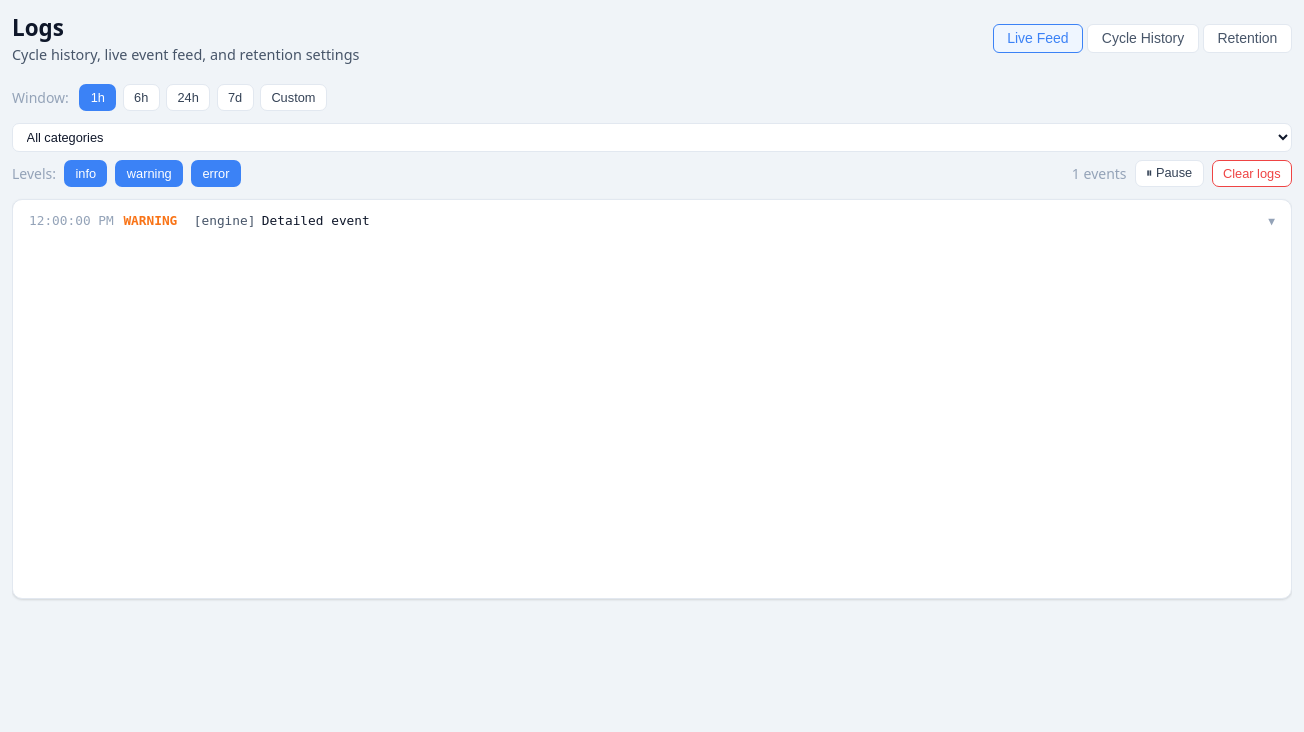
Test: Logs Page › expands an event entry with details
Click the text "Detailed event".
click(316, 220)  # box left=262, top=213, right=370, bottom=228
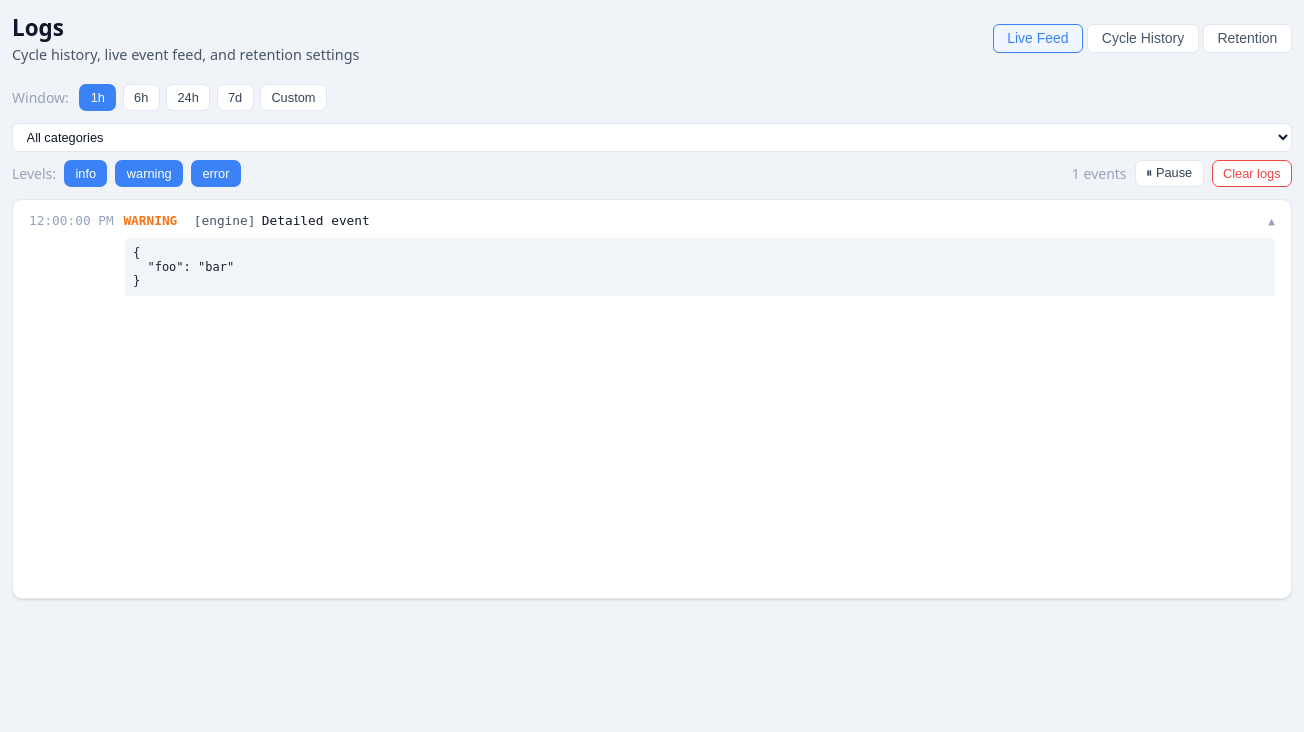
Result: the text "{ \"foo\": \"bar\" }" is shown at left=125, top=238, right=1275, bottom=296
